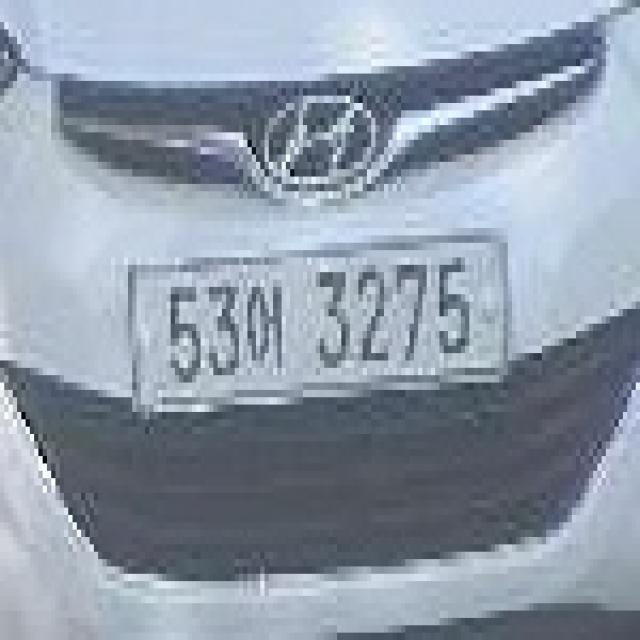2: (358, 257, 397, 368)
3: (316, 258, 358, 382), (201, 265, 243, 382)
5: (162, 265, 209, 412), (439, 235, 474, 368)
7: (396, 250, 426, 375)
eo: (248, 279, 290, 368)
license_plate: (124, 228, 512, 427)
